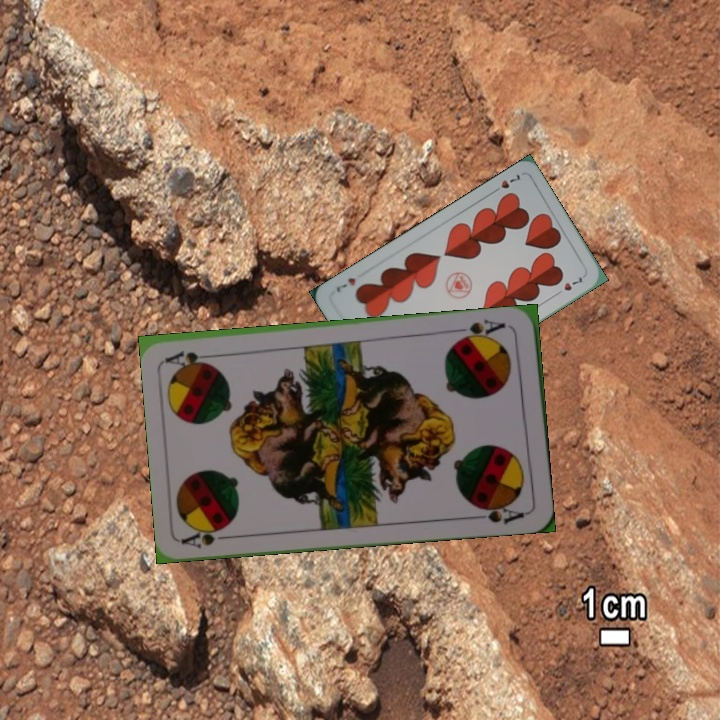H7: (487, 170, 523, 197)
SA: (179, 522, 239, 551), (454, 315, 513, 344)
